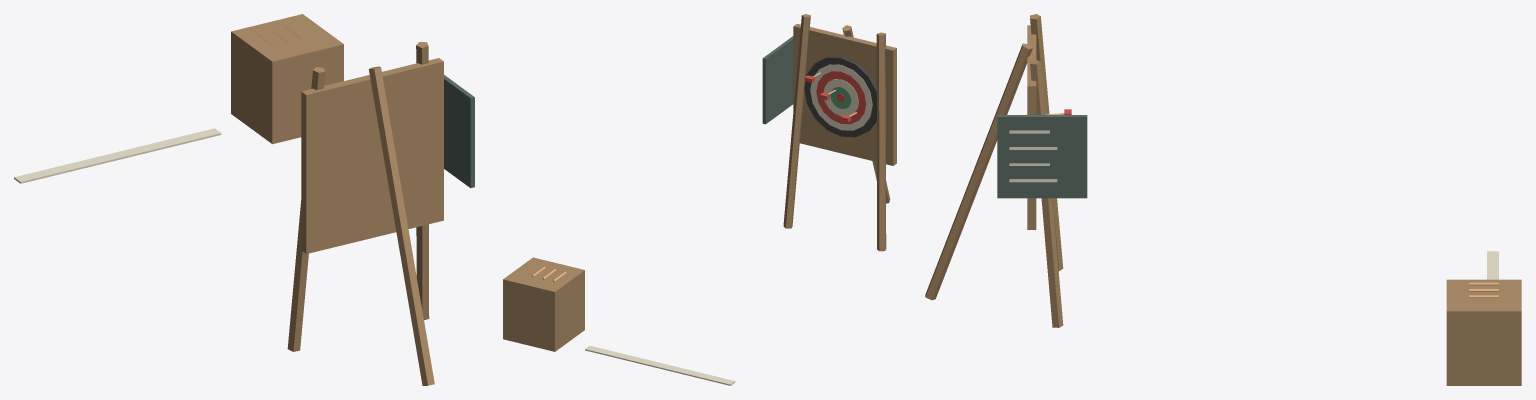
The model's file is darts_stand.glb.
3 views of the same model, side by side, from view 1: azimuth 30°, elevation 25°; view 2: azimuth 150°, elevation 25°; view 3: azimuth 270°, elevation 25° (orthographic). The views are drawn at different scales.
Parts seen in each view (by area): view 1: DartsStand; view 2: DartsStand; view 3: DartsStand.
Part boxes in pixels (box(x1,y1,x2,y2)): DartsStand: box(14, 14, 474, 385); DartsStand: box(503, 14, 896, 385); DartsStand: box(925, 14, 1521, 385).
Size of the model in its own units: 2.1 by 1.92 by 3.98.
